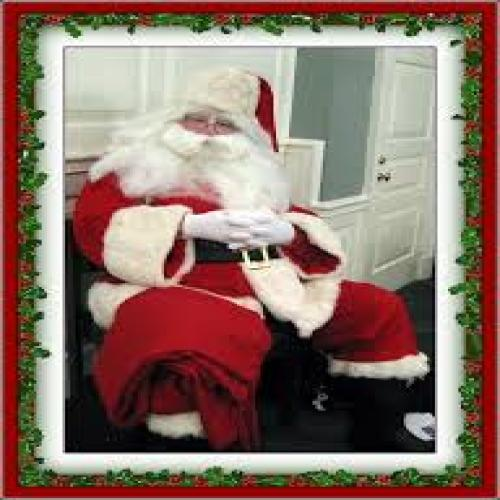Santa: (70, 64, 435, 452)
